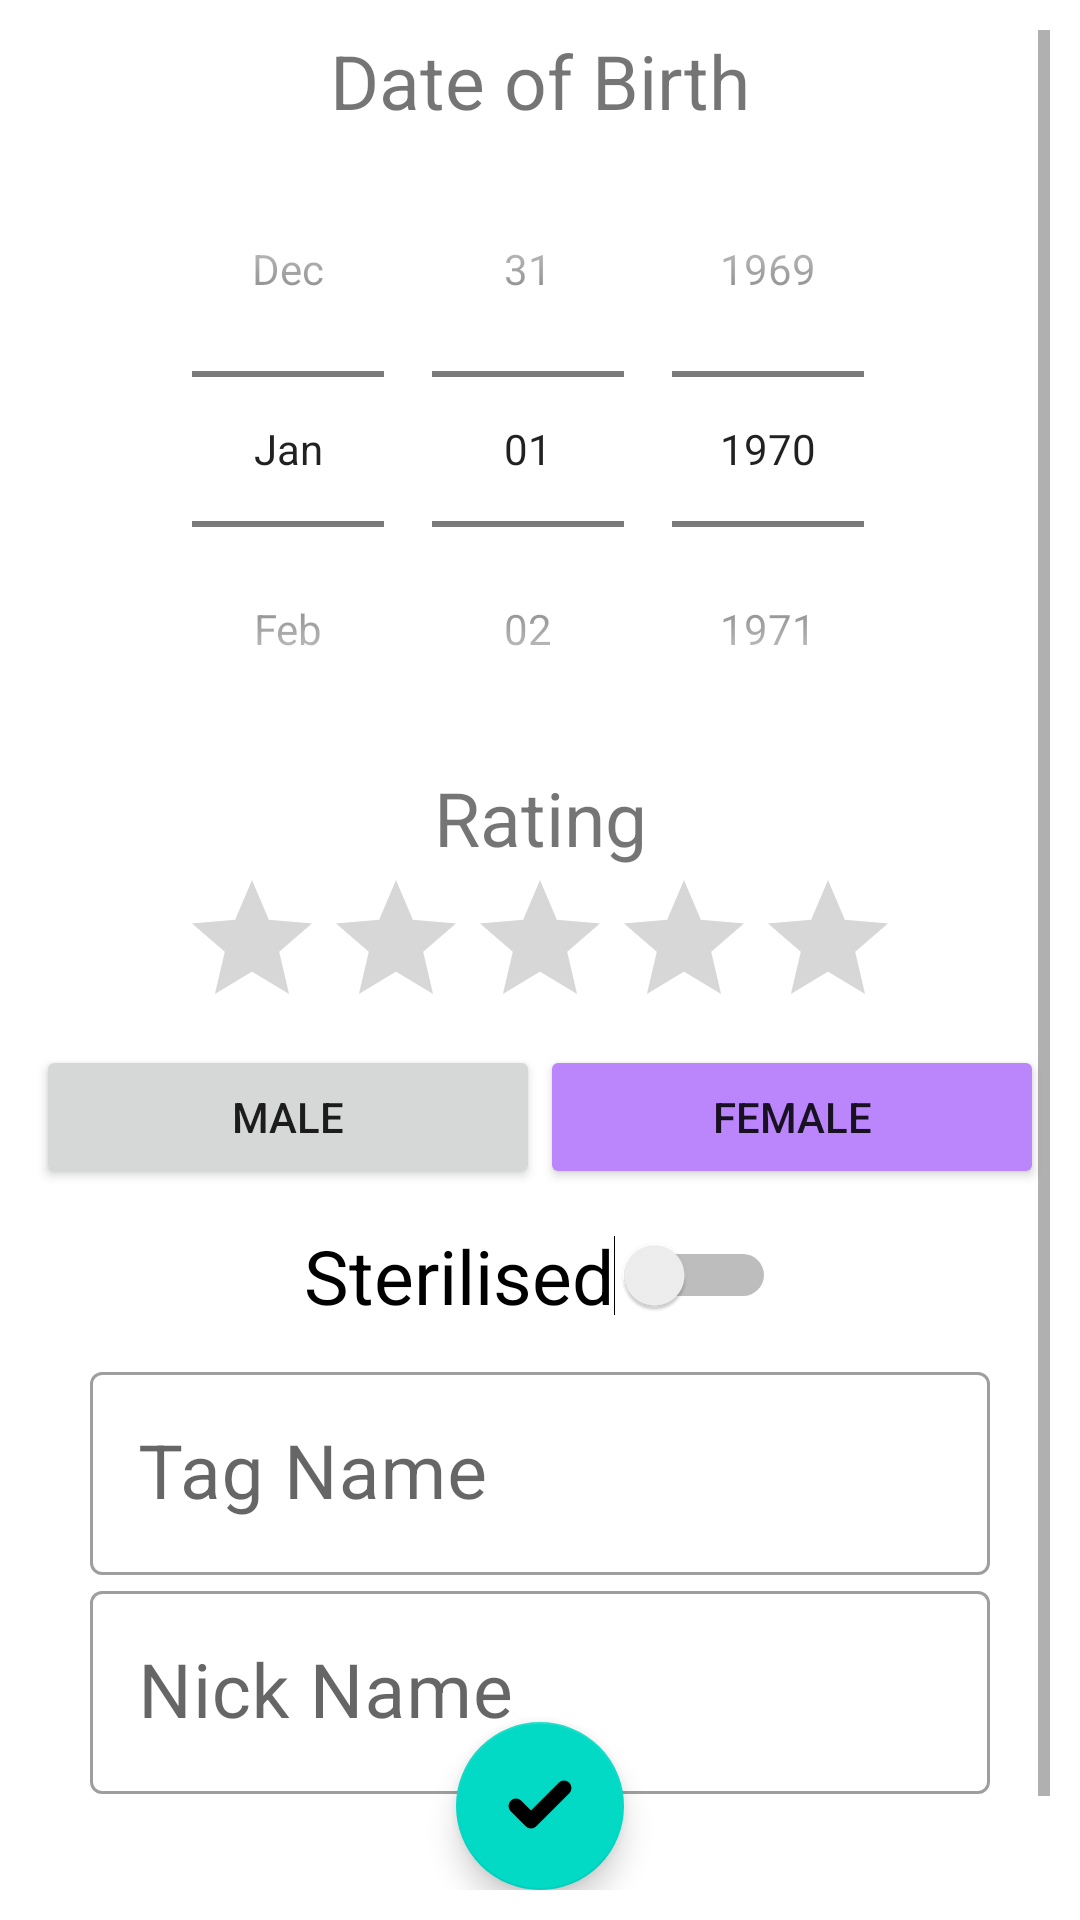

Icon bounding boxes for this 1080*1920 phone screenshot, format [x1=x1, y1=y1, x2=x2, y2=y2]:
check: [x1=456, y1=1722, x2=624, y2=1890]
